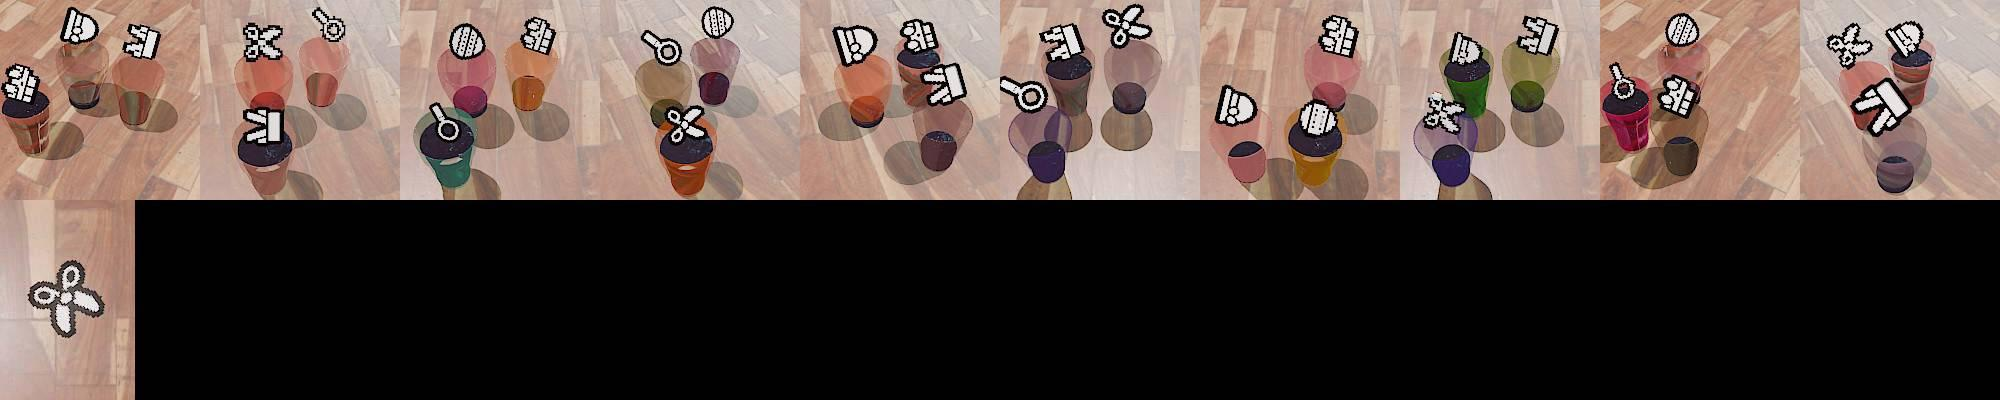icon: (27, 260, 107, 339), (1851, 76, 1913, 138), (1101, 3, 1152, 50), (1825, 23, 1874, 69), (922, 61, 968, 108), (1038, 20, 1087, 65), (832, 23, 879, 68), (999, 74, 1048, 115), (1657, 73, 1700, 118), (665, 103, 708, 148), (1319, 13, 1360, 60), (241, 20, 284, 62), (1216, 84, 1258, 127), (242, 107, 287, 148), (1423, 90, 1466, 131), (1885, 20, 1927, 61), (640, 28, 684, 68), (1296, 98, 1341, 136), (1520, 14, 1560, 54), (122, 20, 161, 61), (60, 6, 98, 47), (449, 22, 487, 60), (520, 15, 556, 56), (3, 64, 40, 102), (310, 5, 346, 45), (429, 102, 462, 144), (1446, 31, 1483, 68), (899, 19, 937, 54), (1665, 13, 1700, 47), (700, 6, 733, 39), (1608, 61, 1636, 99)
